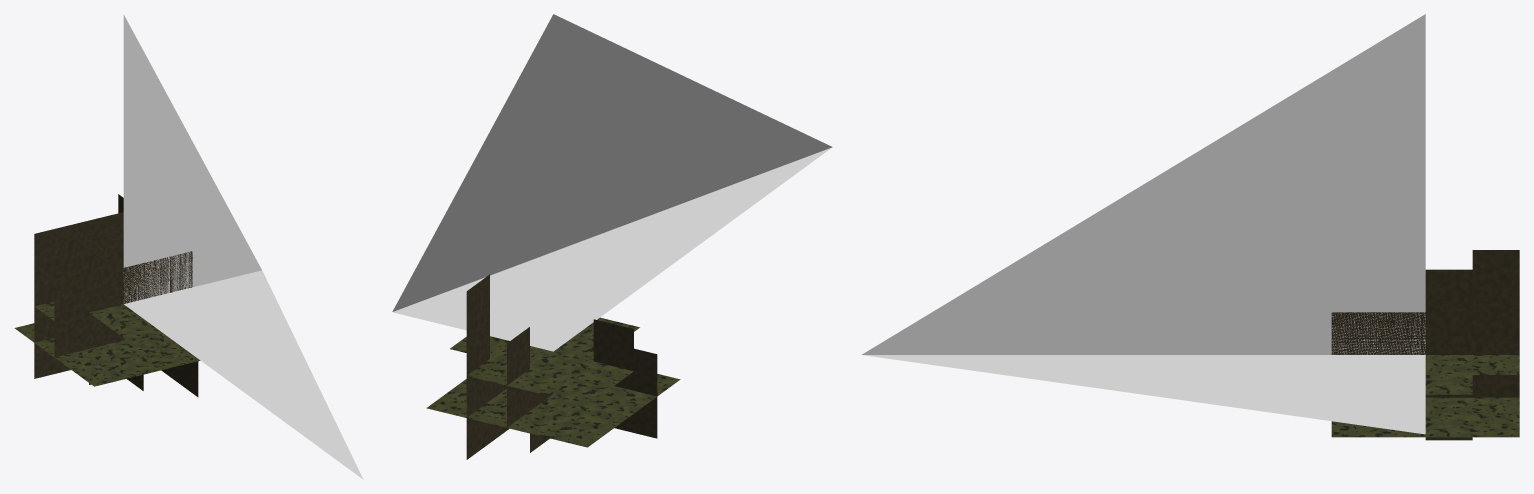
File: tiles.glb
3 views of the same model, side by side, from view 1: azimuth 30°, elevation 25°; view 2: azimuth 150°, elevation 25°; view 3: azimuth 270°, elevation 25° (orthographic). The views are drawn at different scales.
Visible parts, largest first — view 1: mb_frame, tetra_b1h3, edge_inner_b2h4, slab_b4h0, edge_b1h1, tetra_b3h1, ell_b3h0, edge_b0h2, ell_b0h3, corner_b0h1, edge_inner_b4h2, tetra_b3h1_outdoor (+11 smaller); view 2: mb_frame, twist_left_b1h3, ell_b2h1_b, ell_b3h0, ell_b3h0_outdoor, ell_b1h2_b, tetra_b3h1, twist_left_b2h2, edge_b2h0, twist_left_b3h1_outdoor, tetra_b3h1_outdoor, spike_b1h1 (+10 smaller); view 3: mb_frame, corner_inner_b3h4, tetra_b1h3, twist_right_b3h1, ell_b0h3, ell_b1h2_a, corner_b0h1, edge_b1h1, edge_b2h0, twist_right_b3h1_outdoor, ell_b2h1_a, ell_inner_b3h2_b (+6 smaller).
Boxes of the visible parts, x1,y1,x2,y2 form: mb_frame: (123, 14, 363, 479); tetra_b1h3: (54, 231, 123, 320); edge_inner_b2h4: (123, 251, 192, 303); slab_b4h0: (89, 334, 197, 377); edge_b1h1: (34, 226, 68, 375); tetra_b3h1: (35, 301, 123, 357); ell_b3h0: (35, 338, 128, 386); edge_b0h2: (36, 212, 123, 267); ell_b0h3: (89, 232, 123, 276); corner_b0h1: (34, 225, 68, 269); edge_inner_b4h2: (91, 335, 197, 377); tetra_b3h1_outdoor: (34, 302, 123, 356); mb_frame: (392, 14, 832, 351); twist_left_b1h3: (593, 319, 657, 437); ell_b2h1_b: (466, 274, 529, 427); ell_b3h0: (530, 374, 680, 430); ell_b3h0_outdoor: (428, 374, 679, 437); ell_b1h2_b: (466, 327, 529, 459); tetra_b3h1: (509, 351, 633, 394); twist_left_b2h2: (450, 327, 529, 458); edge_b2h0: (426, 391, 569, 437); twist_left_b3h1_outdoor: (466, 318, 640, 443); tetra_b3h1_outdoor: (521, 352, 632, 393); spike_b1h1: (466, 276, 673, 438); mb_frame: (862, 14, 1425, 434); corner_inner_b3h4: (1331, 312, 1461, 396); tetra_b1h3: (1425, 269, 1519, 354); twist_right_b3h1: (1331, 397, 1472, 437); ell_b0h3: (1425, 269, 1472, 312); ell_b1h2_a: (1472, 312, 1519, 354); corner_b0h1: (1472, 250, 1519, 292); edge_b1h1: (1472, 250, 1519, 312); edge_b2h0: (1472, 397, 1519, 437); twist_right_b3h1_outdoor: (1331, 375, 1519, 437); ell_b2h1_a: (1472, 375, 1519, 437); ell_inner_b3h2_b: (1425, 355, 1472, 394).
Size of the model in its own units: 1.5 by 2.5 by 3.5.
Materials: 2 (2 with a texture image).
